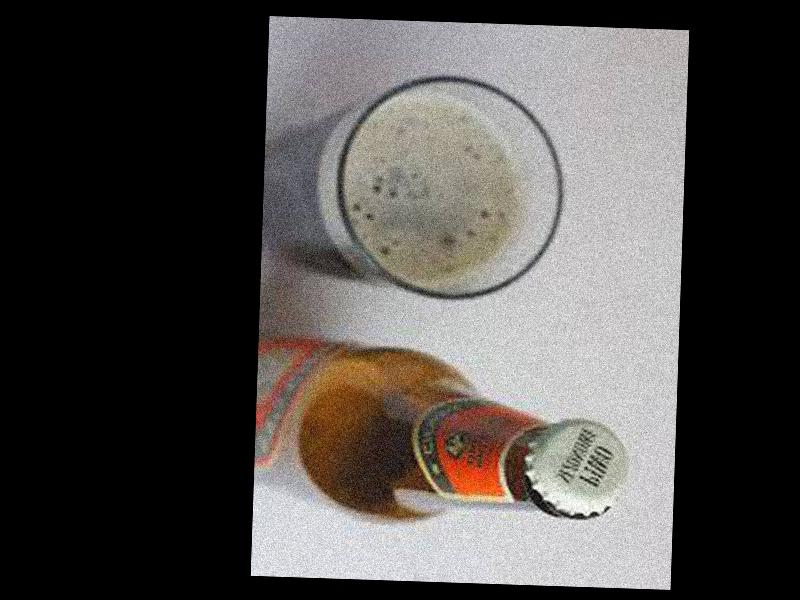Beer: (252, 333, 632, 531)
